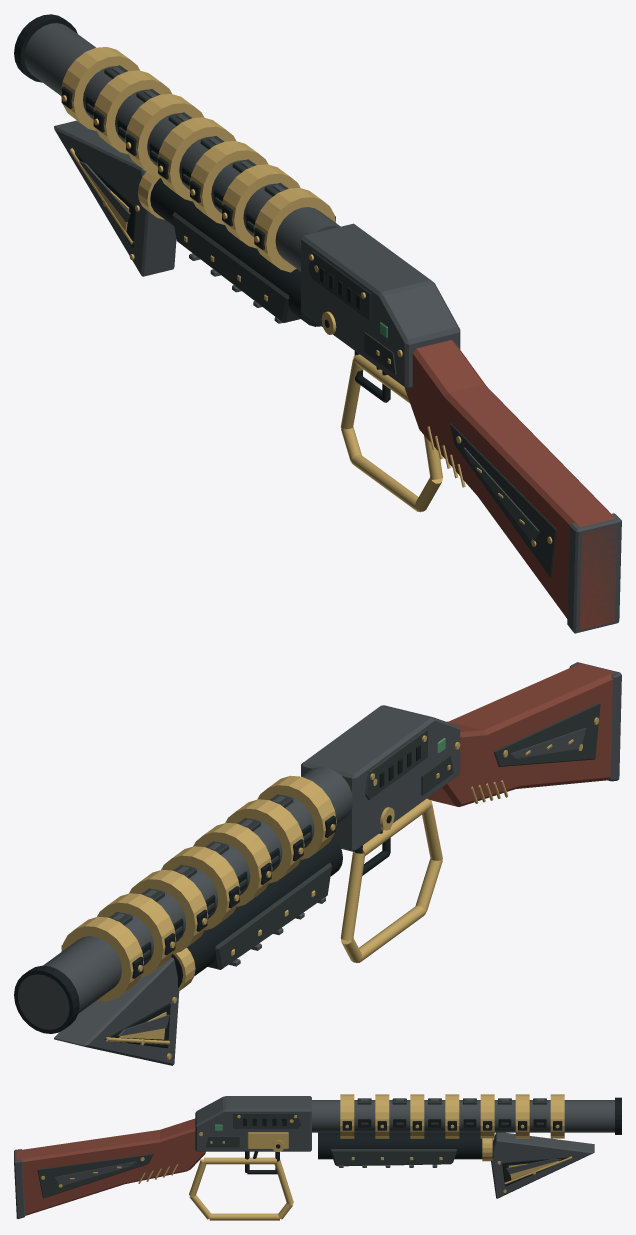
The model's file is slug_1.glb.
The picture shows the model from 3 angles, top to bottom: view 1: azimuth 30°, elevation 25°; view 2: azimuth 150°, elevation 25°; view 3: azimuth 270°, elevation 25°; orthographic projection. The views are drawn at different scales.
Parts seen in each view (by area): view 1: Weapon_slug_v1; view 2: Weapon_slug_v1; view 3: Weapon_slug_v1.
Part boxes in pixels (<box>): Weapon_slug_v1: <box>14,14,621,633</box>; Weapon_slug_v1: <box>14,662,621,1065</box>; Weapon_slug_v1: <box>14,1094,621,1220</box>.
Bounding box in the file's own units: 0.084 × 0.234 × 1.04.
